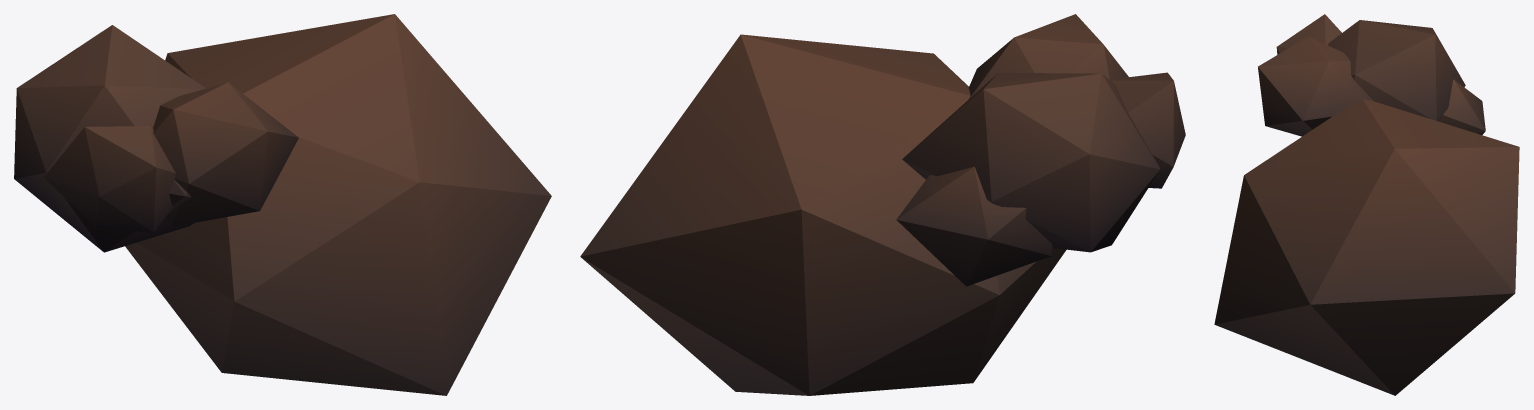
Rendered from boulders.lod1.glb.
The picture shows the model from 3 angles, left to right: view 1: azimuth 30°, elevation 25°; view 2: azimuth 150°, elevation 25°; view 3: azimuth 270°, elevation 25°; orthographic projection. The views are drawn at different scales.
Visible parts, largest first — view 1: boulders_s1_lod1; view 2: boulders_s1_lod1; view 3: boulders_s1_lod1.
Boxes of the visible parts, x1,y1,x2,y2 form: boulders_s1_lod1: (14, 14, 551, 395); boulders_s1_lod1: (580, 14, 1185, 395); boulders_s1_lod1: (1214, 14, 1519, 395).
Size of the model in its own units: 1.75 by 1.28 by 1.32.
